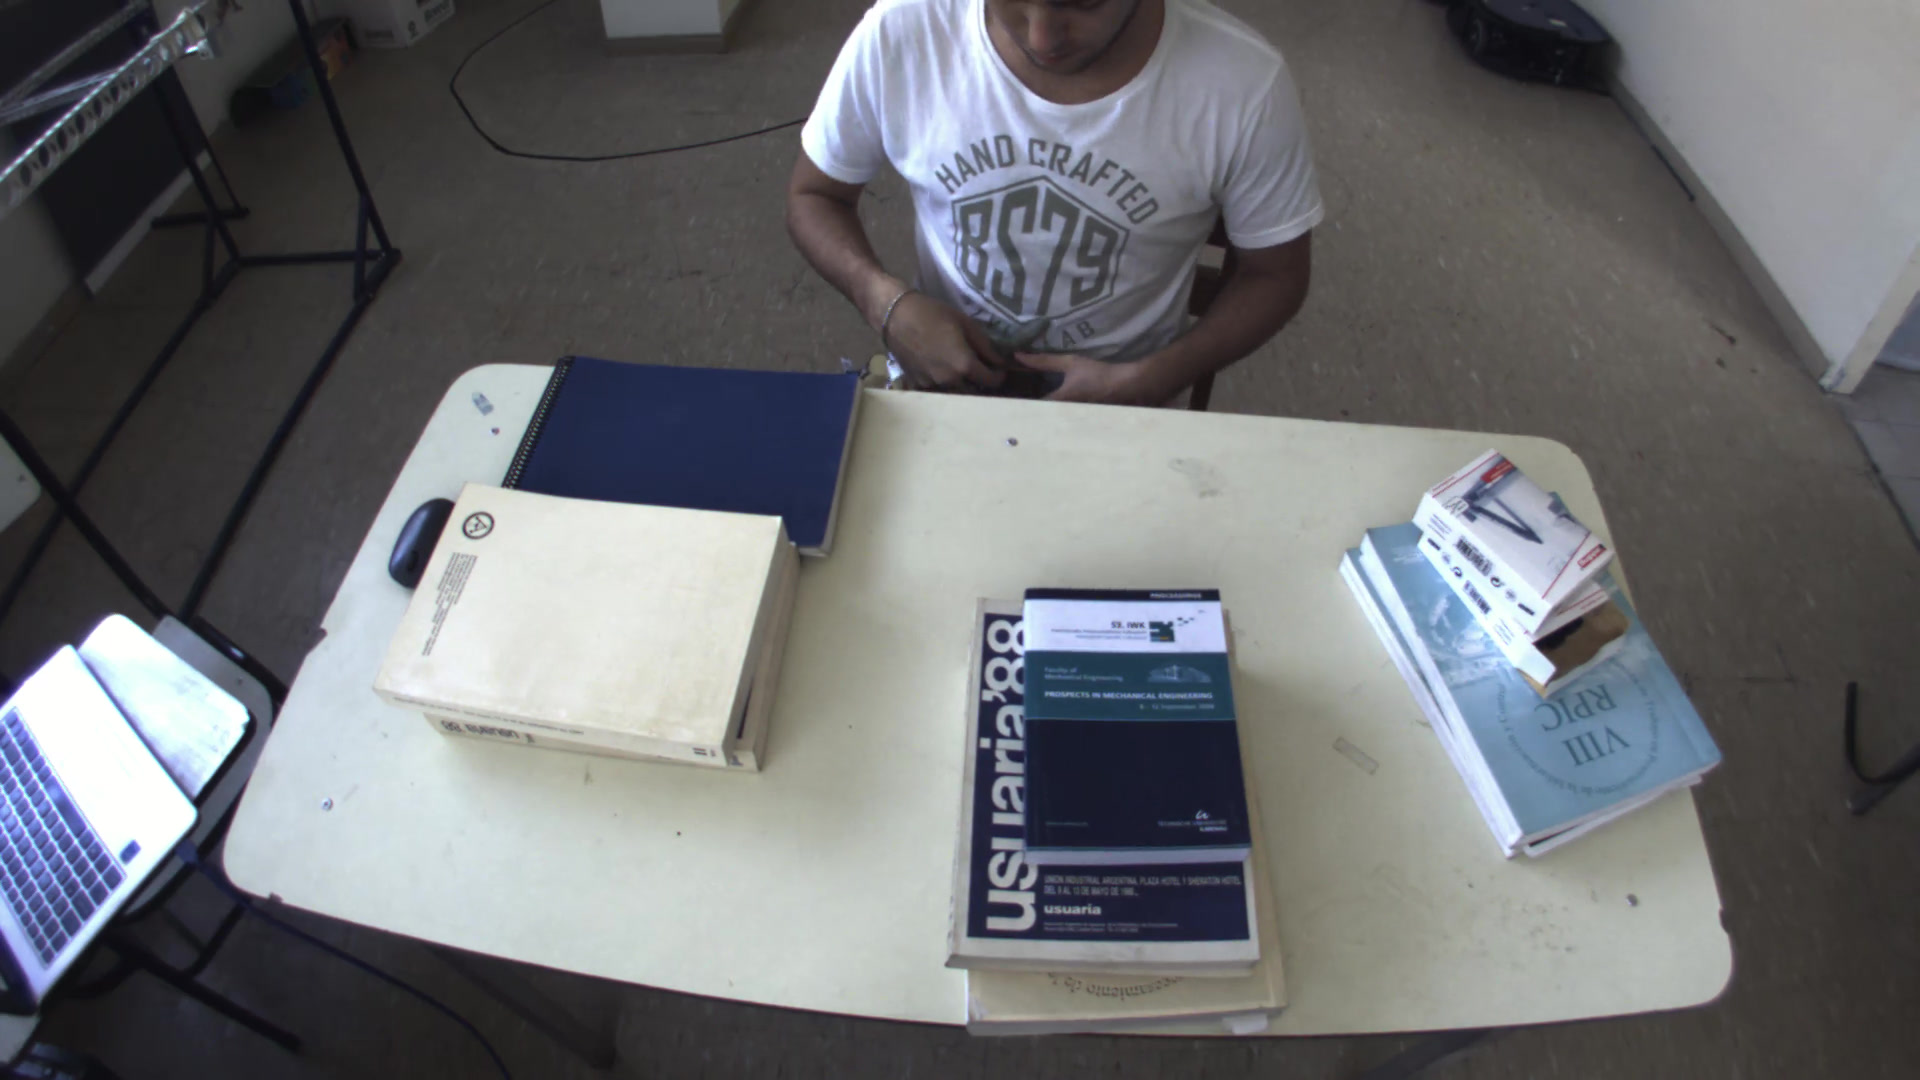hand: (872, 280, 1002, 392), (1005, 328, 1156, 417)
